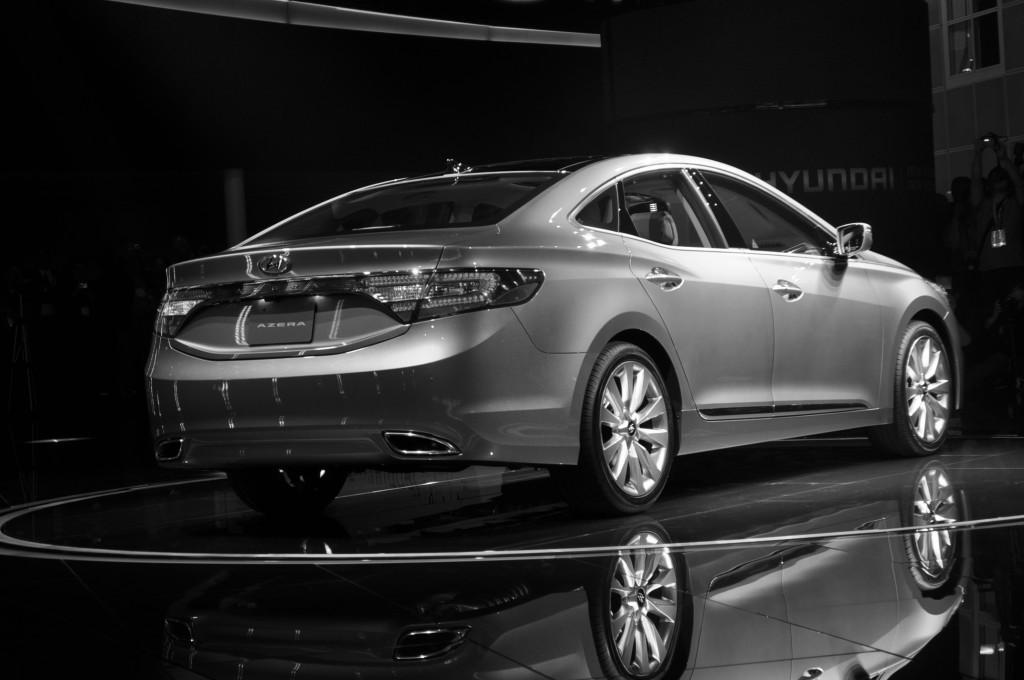car: (147, 150, 963, 513)
